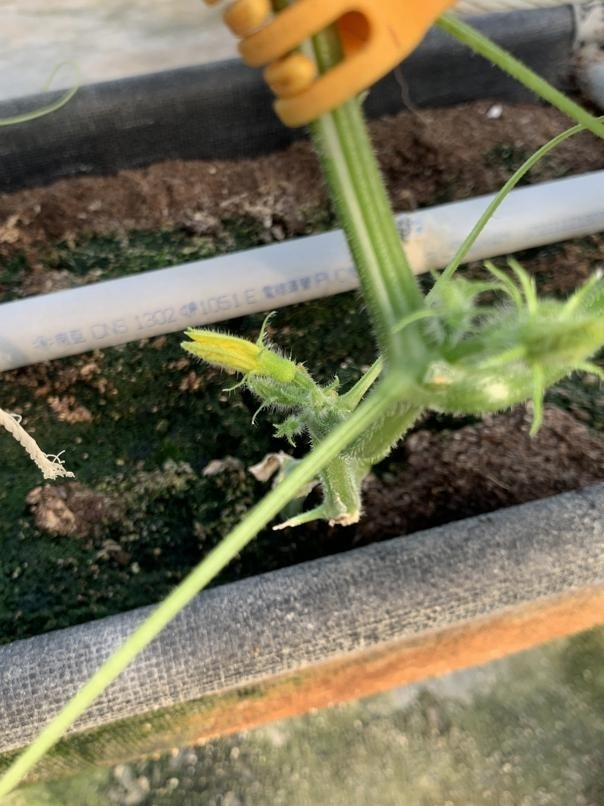bud: (179, 324, 300, 391)
